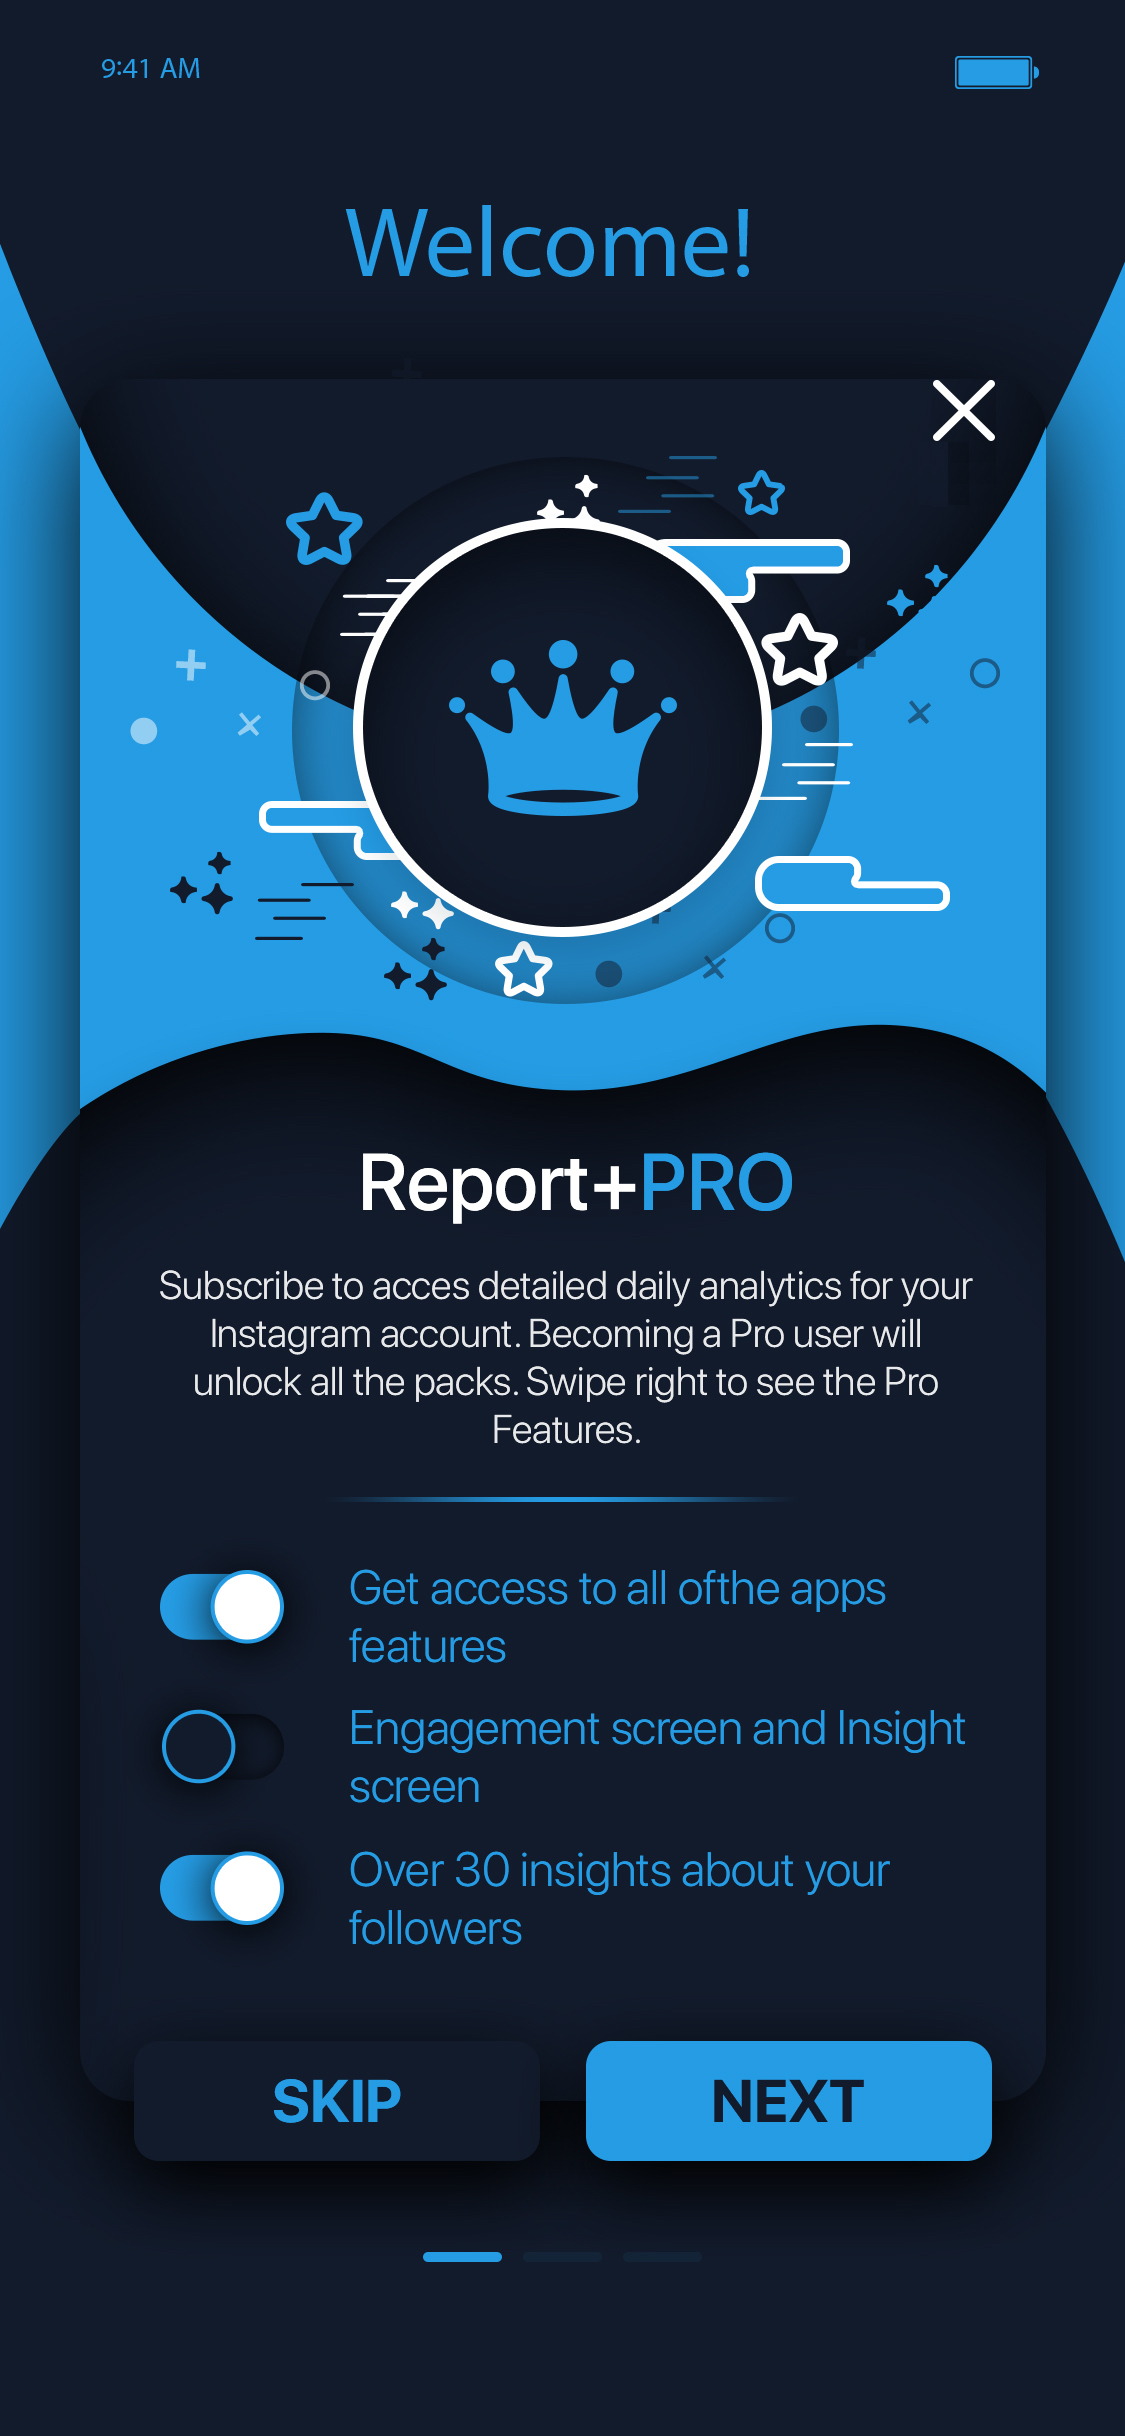Icon: (932, 381, 996, 443)
Image: (131, 455, 1001, 1002)
PageIndicator: (423, 2251, 704, 2264)
Switch: (162, 1707, 286, 1785), (160, 1569, 286, 1645), (160, 1850, 286, 1926)
Text: (160, 1269, 974, 1446), (350, 1709, 967, 1805), (348, 1568, 886, 1665), (350, 1850, 890, 1947), (362, 1153, 792, 1226), (345, 205, 751, 280)
TextButton: (586, 2041, 993, 2163), (134, 2040, 541, 2161)
UpperTaskBar: (103, 56, 1040, 92)
